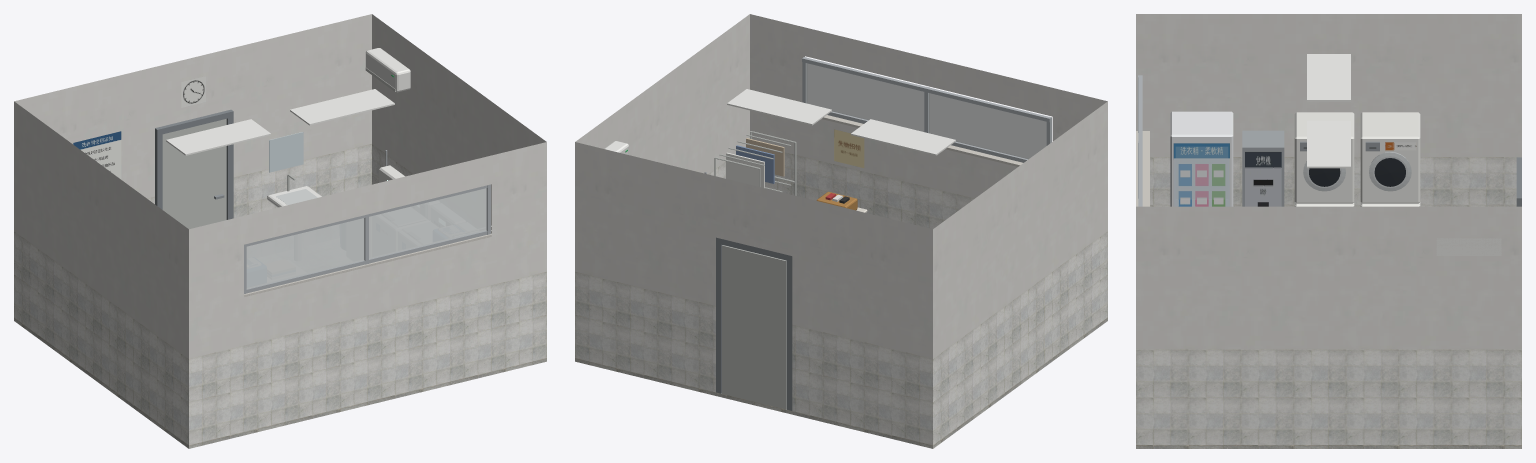
Rendered from dorm_laundry.glb.
The picture shows the model from 3 angles, left to right: view 1: azimuth 30°, elevation 25°; view 2: azimuth 150°, elevation 25°; view 3: azimuth 270°, elevation 25°; orthographic projection. The views are drawn at different scales.
Visible parts, largest first — view 1: WALL_S_wall, WALL_S_wain, WALL_N_wall, WALL_W_wall, WALL_W_wain, WALL_E_wall, WALL_S_glass, WALL_N_trim, dorm_laundry_props, WALL_N_wain, WALL_S_frame, dorm_laundry_floorm (+3 smaller); view 2: WALL_N_wall, WALL_N_wain, WALL_W_wall, WALL_S_wall, WALL_W_wain, WALL_E_wall, WALL_N_trim, WALL_S_glass, WALL_S_wain, dorm_laundry_props, WALL_S_frame, dorm_laundry_floorm (+2 smaller); view 3: WALL_E_wall, WALL_W_wall, WALL_E_wain, dorm_laundry_props, WALL_W_wain, dorm_laundry_prints, dorm_laundry_glassparts, dorm_laundry_metal, dorm_laundry_floorm, WALL_S_frame, WALL_E_trim.
Boxes of the visible parts, <box> form: WALL_S_wall: <box>189,142,546,358</box>; WALL_S_wain: <box>189,271,546,445</box>; WALL_N_wall: <box>14,14,371,198</box>; WALL_W_wall: <box>14,101,188,358</box>; WALL_W_wain: <box>14,231,188,444</box>; WALL_E_wall: <box>372,14,546,229</box>; WALL_S_glass: <box>246,188,486,288</box>; WALL_N_trim: <box>155,109,233,229</box>; dorm_laundry_props: <box>166,89,491,234</box>; WALL_N_wain: <box>147,143,371,218</box>; WALL_S_frame: <box>244,184,491,296</box>; dorm_laundry_floorm: <box>14,317,546,448</box>; WALL_N_wall: <box>575,142,932,358</box>; WALL_N_wain: <box>575,271,932,445</box>; WALL_W_wall: <box>933,101,1107,358</box>; WALL_S_wall: <box>750,14,1107,198</box>; WALL_W_wain: <box>933,231,1107,444</box>; WALL_E_wall: <box>575,14,749,174</box>; WALL_N_trim: <box>716,237,792,410</box>; WALL_S_glass: <box>806,63,1046,159</box>; WALL_S_wain: <box>765,152,974,229</box>; dorm_laundry_props: <box>726,89,955,212</box>; WALL_S_frame: <box>802,57,1051,166</box>; dorm_laundry_floorm: <box>575,317,1107,448</box>; WALL_E_wall: <box>1136,206,1521,349</box>; WALL_W_wall: <box>1136,14,1521,156</box>; WALL_E_wain: <box>1136,349,1521,444</box>; dorm_laundry_props: <box>1170,54,1420,206</box>; WALL_W_wain: <box>1150,157,1521,206</box>; dorm_laundry_prints: <box>1173,142,1416,206</box>; dorm_laundry_glassparts: <box>1176,147,1227,198</box>; dorm_laundry_metal: <box>1242,130,1379,206</box>; dorm_laundry_floorm: <box>1136,445,1521,448</box>; WALL_S_frame: <box>1136,75,1149,206</box>; WALL_E_trim: <box>1436,238,1501,255</box>.
Size of the model in its own units: 5.2 by 3.05 by 4.4.
Materials: 13 (4 with a texture image).
